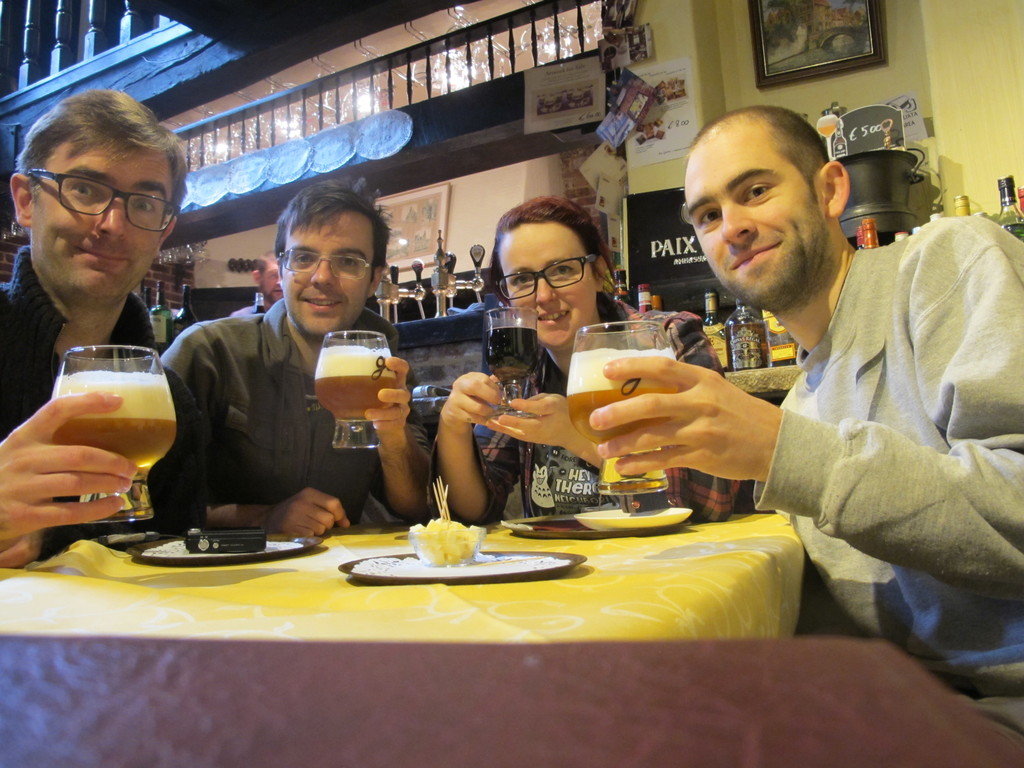Beer: (41, 365, 174, 473), (564, 350, 676, 456), (318, 343, 393, 418)
